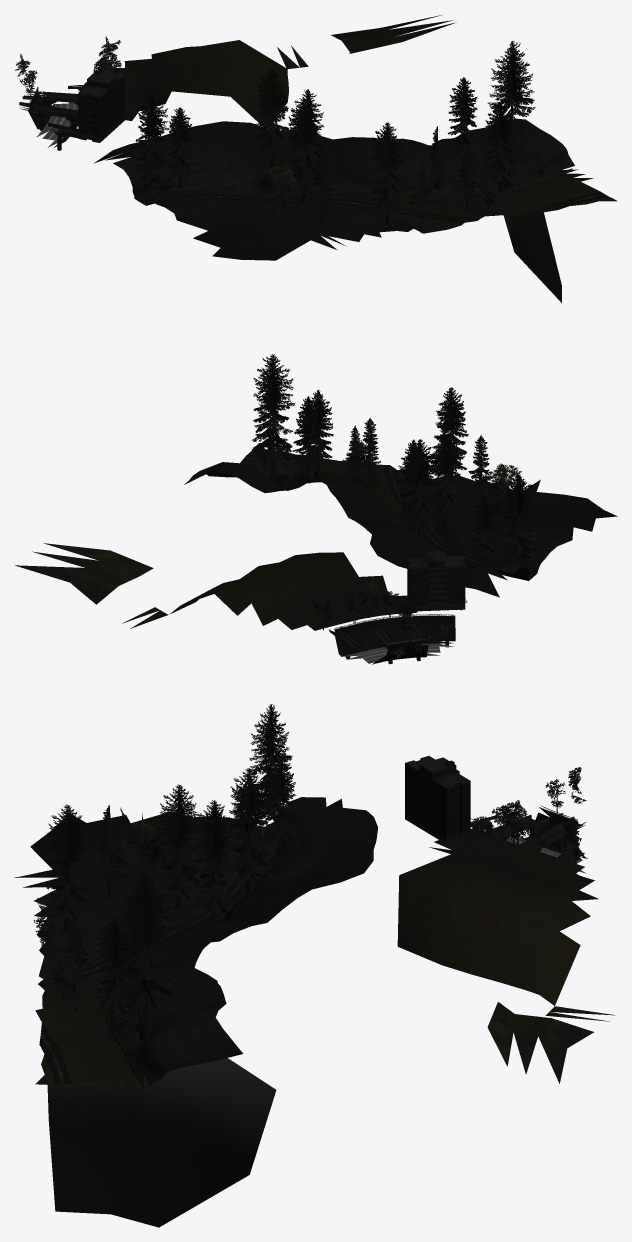
The model's file is cell_3_-17.gltf.
The picture shows the model from 3 angles, top to bottom: view 1: azimuth 30°, elevation 25°; view 2: azimuth 150°, elevation 25°; view 3: azimuth 270°, elevation 25°; orthographic projection. The views are drawn at different scales.
Parts seen in each view (by area): view 1: cell_3_-17; view 2: cell_3_-17; view 3: cell_3_-17.
Boxes of the visible parts, x1,y1,x2,y2 form: cell_3_-17: (15, 15, 617, 302); cell_3_-17: (15, 354, 617, 664); cell_3_-17: (14, 704, 615, 1227).
Size of the model in its own units: 293 by 170 by 288.
Materials: 37 (37 with a texture image).
